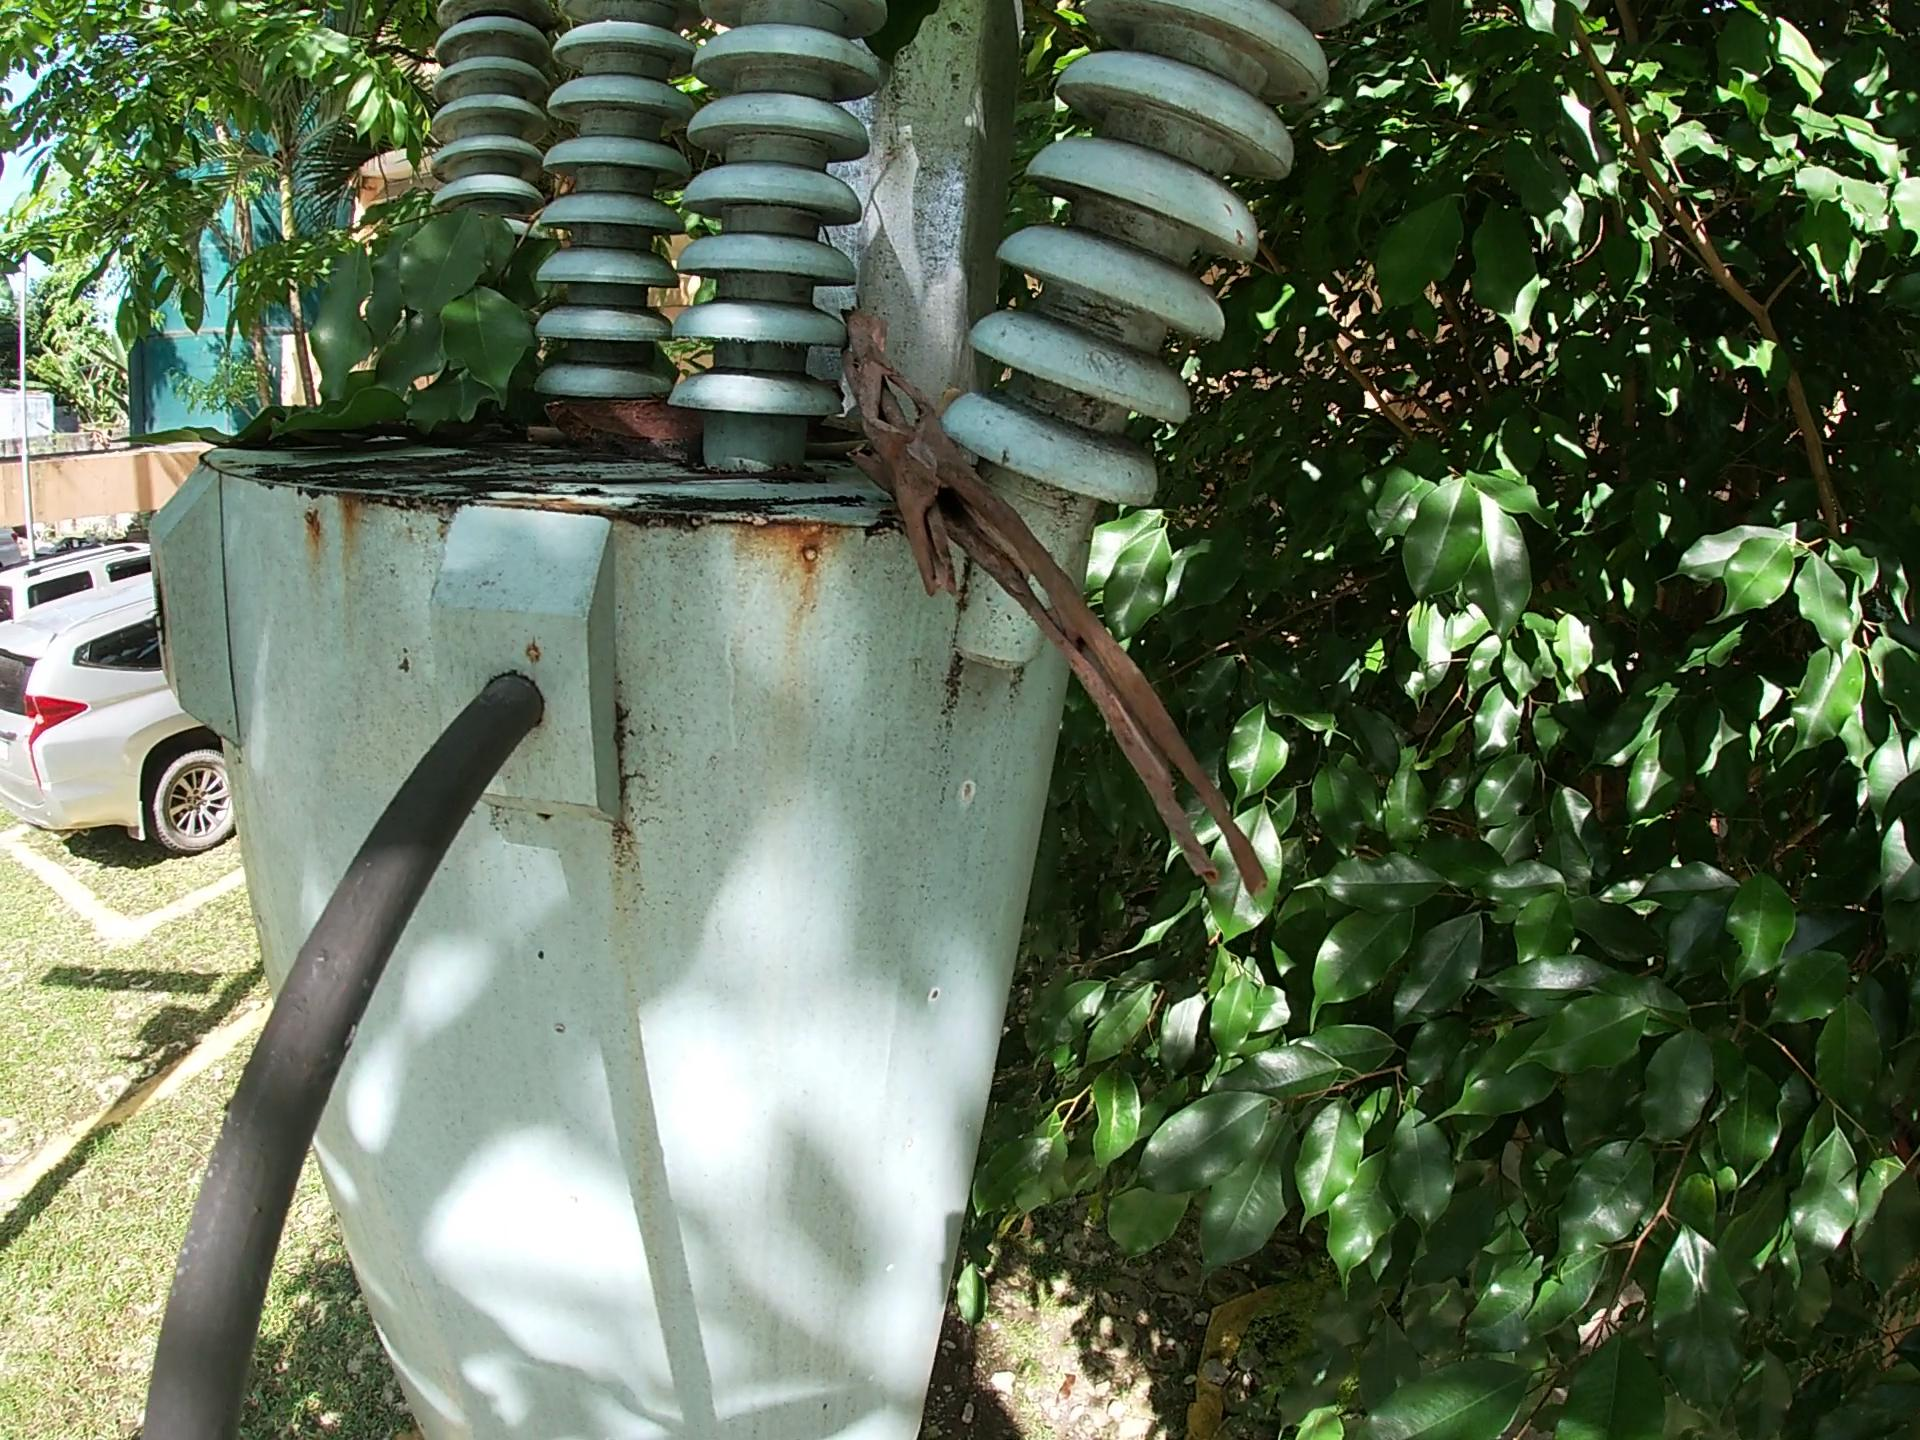mahogany fruit: (547, 390, 720, 451)
tree branch: (838, 315, 1293, 927), (528, 463, 825, 501), (931, 386, 955, 427), (517, 430, 561, 451)
